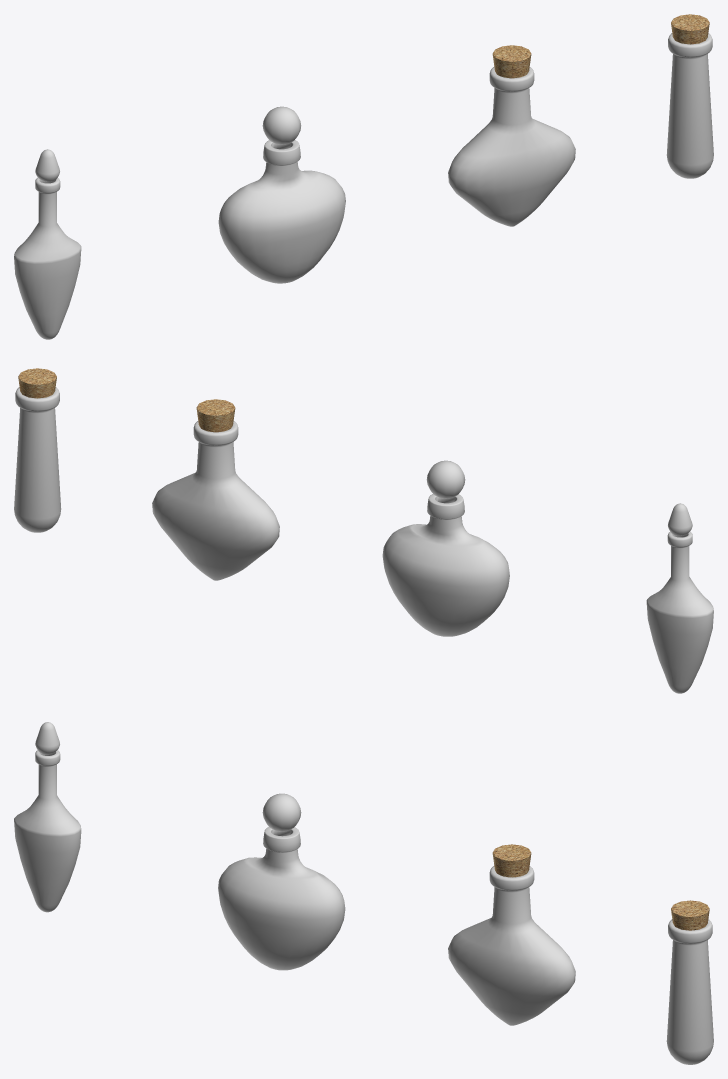
File: PotionBottles.fbx
The picture shows the model from 3 angles, top to bottom: view 1: azimuth 30°, elevation 25°; view 2: azimuth 150°, elevation 25°; view 3: azimuth 330°, elevation 25°; orthographic projection.
Visible parts, largest first — view 1: Bottle2, Bottle3, Bottle1, Bottle4, Bottle2-Cover, Cork2, Cork1, Bottle1-Cover; view 2: Bottle2, Bottle3, Bottle1, Bottle4, Bottle2-Cover, Cork2, Cork1, Bottle1-Cover; view 3: Bottle2, Bottle3, Bottle1, Bottle4, Bottle2-Cover, Cork2, Cork1, Bottle1-Cover.
Part boxes in pixels (left/top/right/bottom): Bottle2: left=218, top=140, right=345, bottom=283; Bottle3: left=448, top=67, right=575, bottom=226; Bottle1: left=14, top=177, right=81, bottom=339; Bottle4: left=666, top=33, right=713, bottom=178; Bottle2-Cover: left=262, top=106, right=301, bottom=149; Cork2: left=492, top=45, right=531, bottom=78; Cork1: left=671, top=14, right=709, bottom=44; Bottle1-Cover: left=35, top=149, right=59, bottom=183; Bottle2: left=382, top=494, right=509, bottom=636; Bottle3: left=152, top=421, right=279, bottom=580; Bottle1: left=646, top=531, right=713, bottom=693; Bottle4: left=14, top=387, right=61, bottom=532; Bottle2-Cover: left=426, top=460, right=465, bottom=503; Cork2: left=196, top=399, right=235, bottom=432; Cork1: left=18, top=368, right=56, bottom=398; Bottle1-Cover: left=668, top=503, right=692, bottom=537; Bottle2: left=218, top=827, right=345, bottom=970; Bottle3: left=448, top=866, right=575, bottom=1025; Bottle1: left=14, top=750, right=81, bottom=912; Bottle4: left=666, top=919, right=713, bottom=1064; Bottle2-Cover: left=262, top=793, right=301, bottom=836; Cork2: left=492, top=844, right=531, bottom=877; Cork1: left=671, top=900, right=709, bottom=930; Bottle1-Cover: left=35, top=722, right=59, bottom=755.
Size of the model in its own units: 311 by 81.14 by 31.81.
